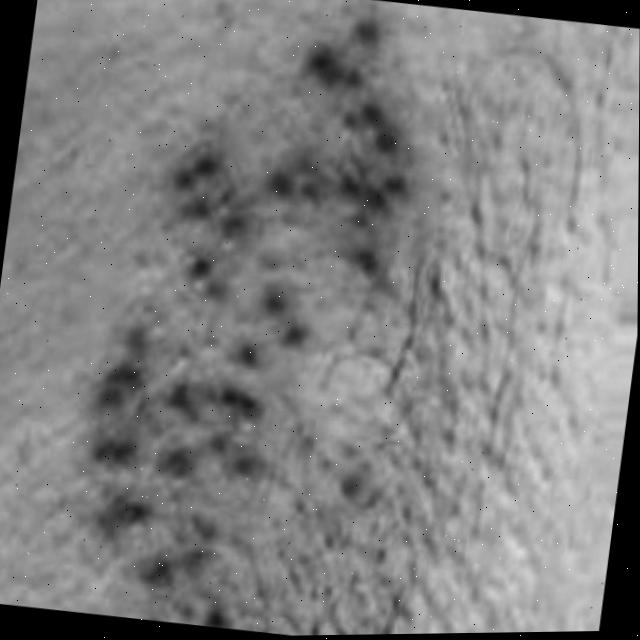Shingles: (73, 0, 435, 639)
